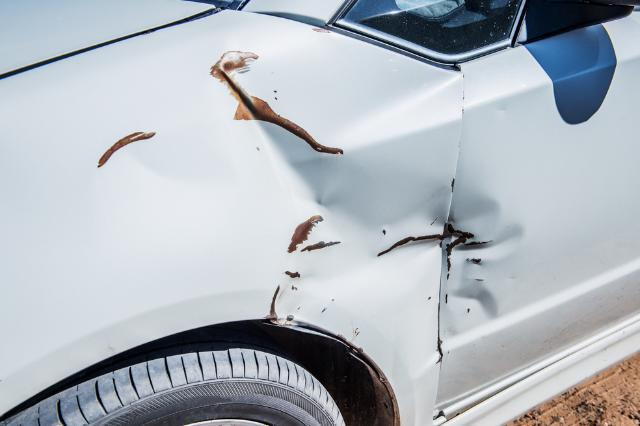Door: (445, 167, 536, 348)
Fender: (93, 48, 436, 402)
